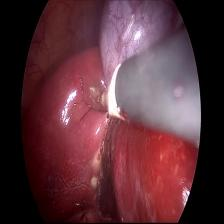Hook: (87, 62, 129, 132)
